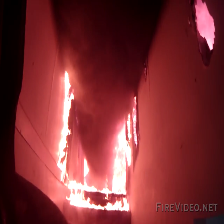fire_h: (56, 70, 74, 182), (67, 189, 130, 212), (113, 125, 131, 195), (195, 1, 215, 50), (65, 180, 112, 195), (132, 95, 138, 146), (83, 159, 90, 178), (127, 114, 132, 140)
